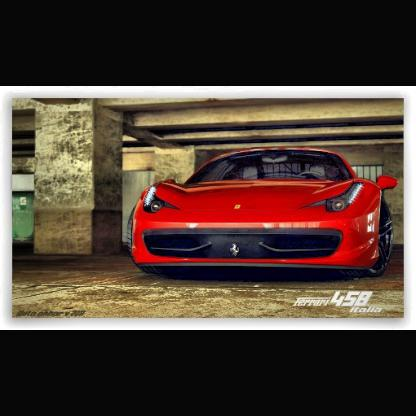Ferrari 458 Italia Coupe 2012: (127, 145, 399, 279)
